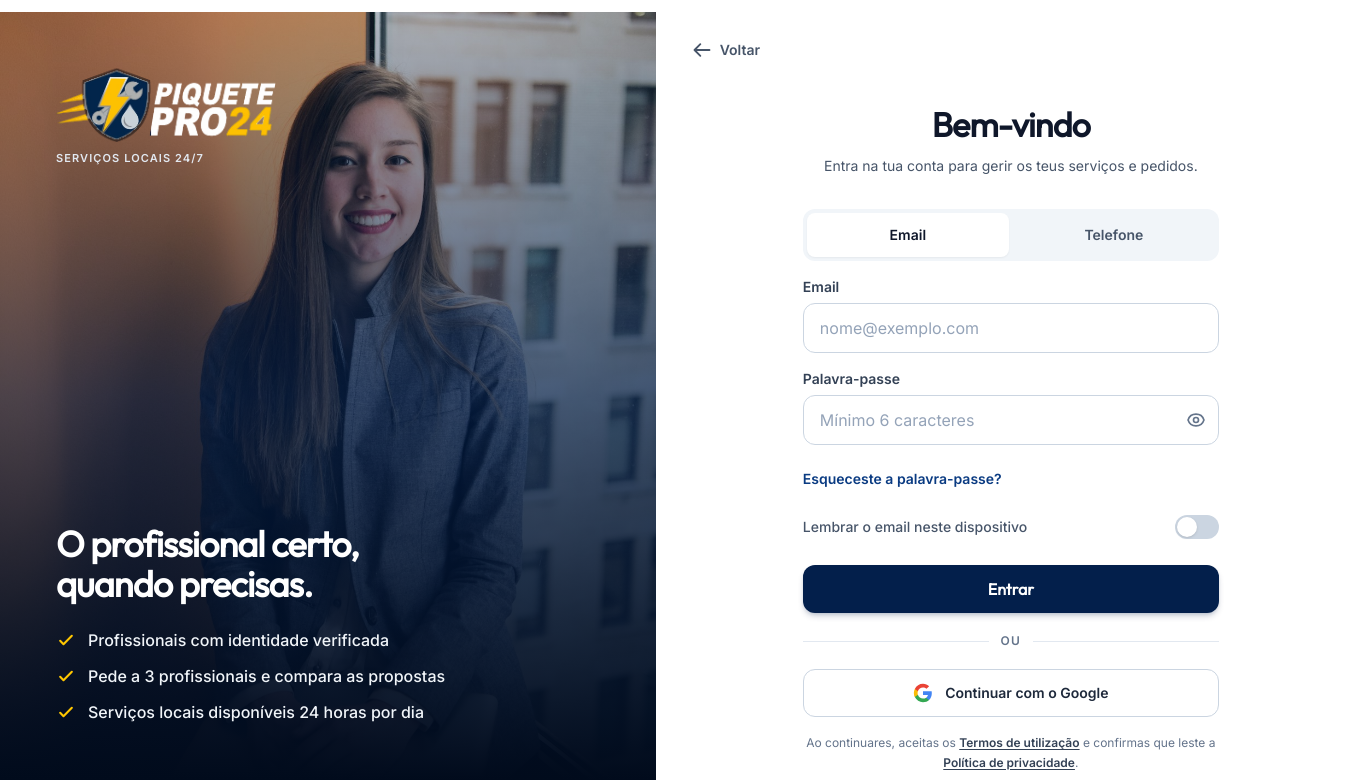
it: Login — envio › mostra o erro em português quando o login falha
Type "ana@exemplo.com" into the field labelled "Email".
click(1011, 328); type("ana@exemplo.com")  # box x1=804 y1=304 x2=1218 y2=352
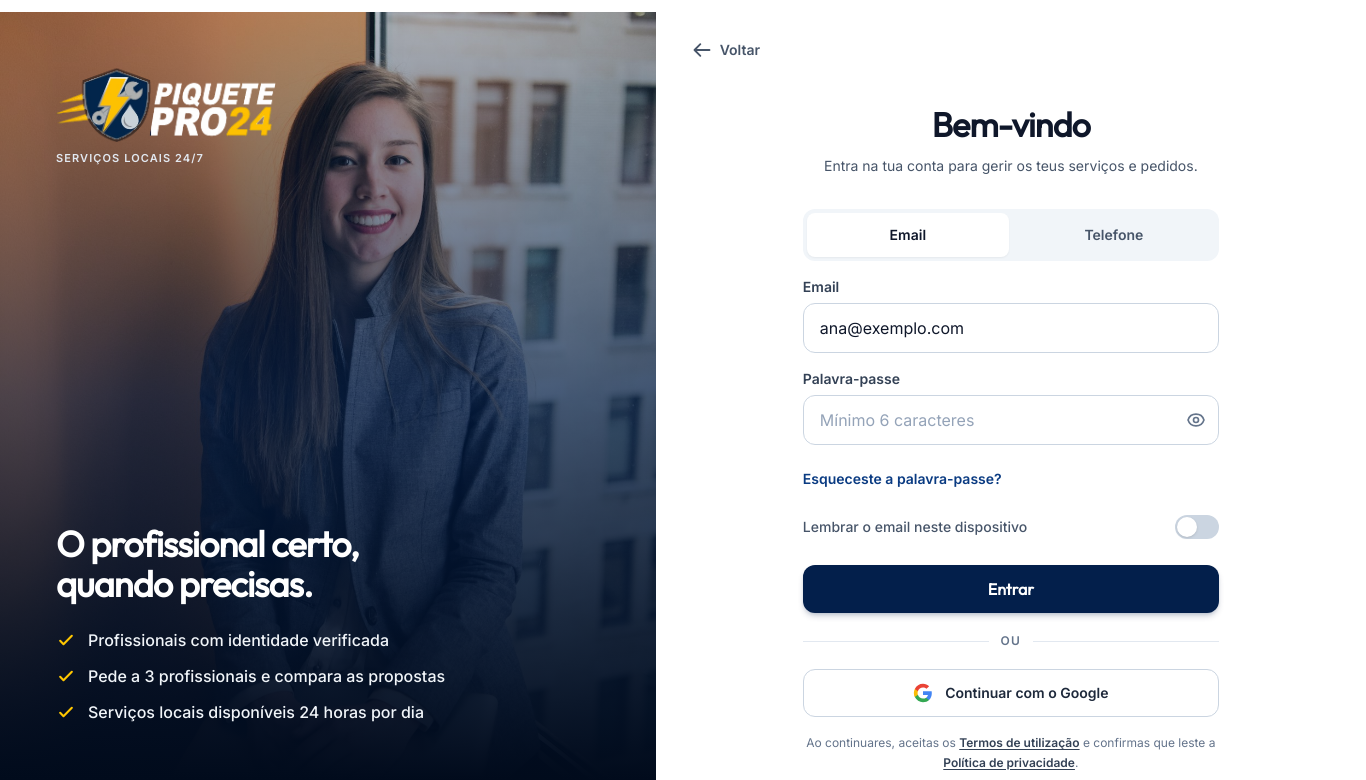
Type "errada1" into the password field labelled "Palavra-passe".
click(1011, 420); type("errada1")  # box x1=804 y1=396 x2=1218 y2=444
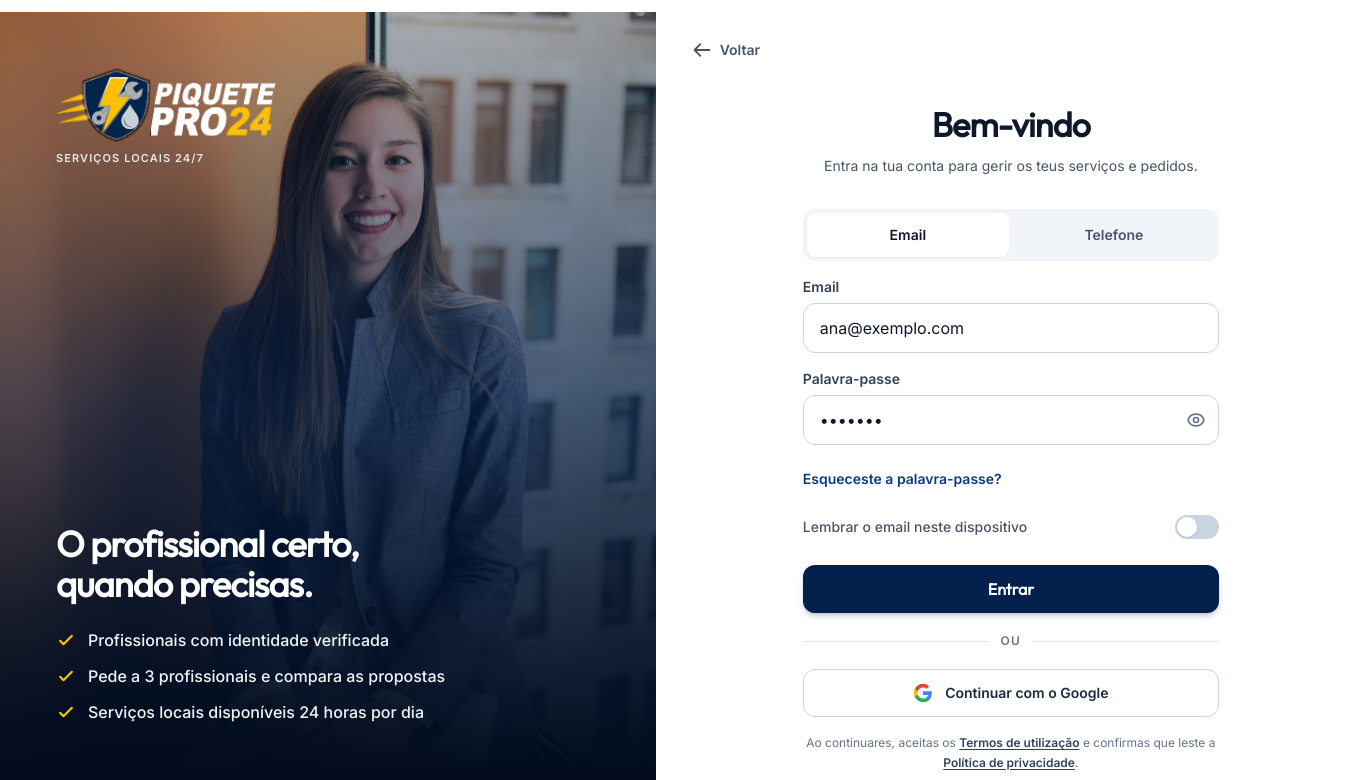
Click the button "Entrar".
click(1011, 589)  # box x1=803 y1=565 x2=1219 y2=613
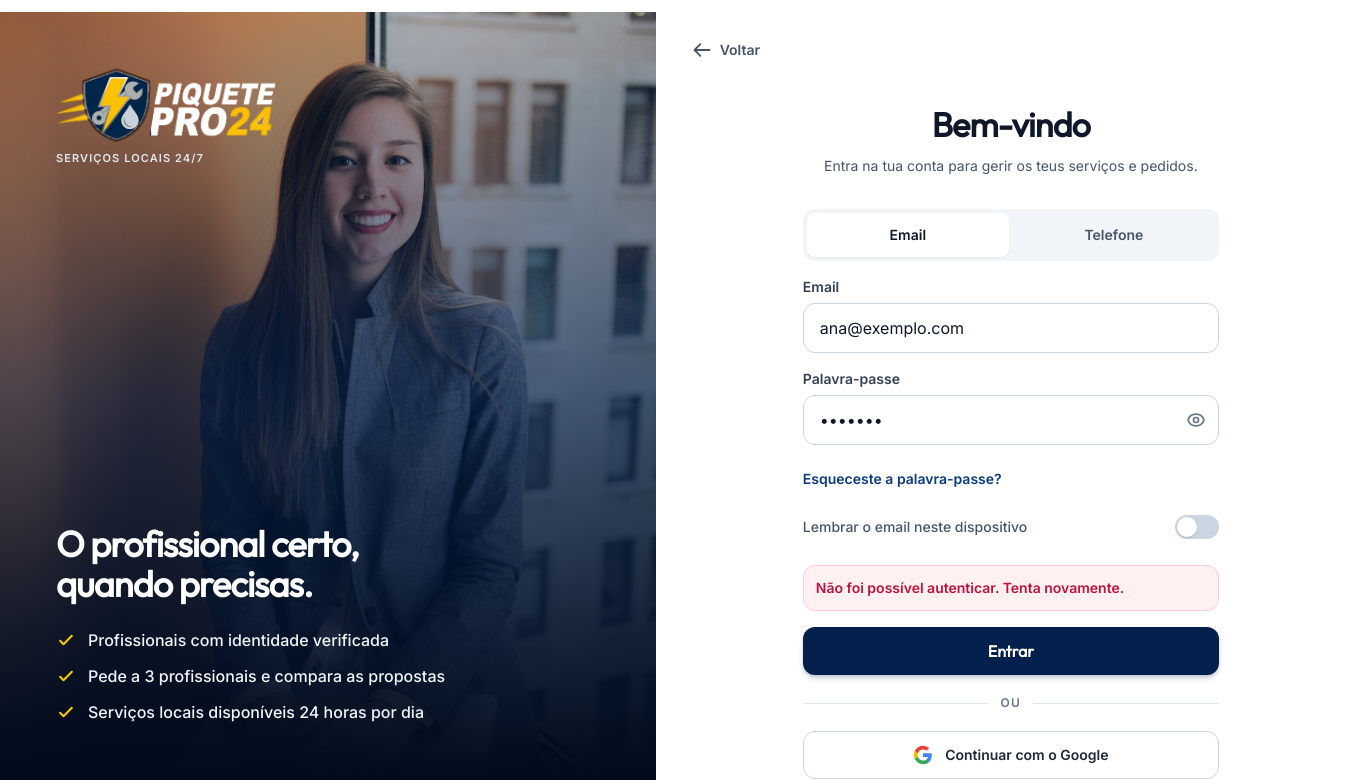
Result: the message "Não foi possível autenticar. Tenta novamente." is shown at x1=803 y1=565 x2=1219 y2=611
